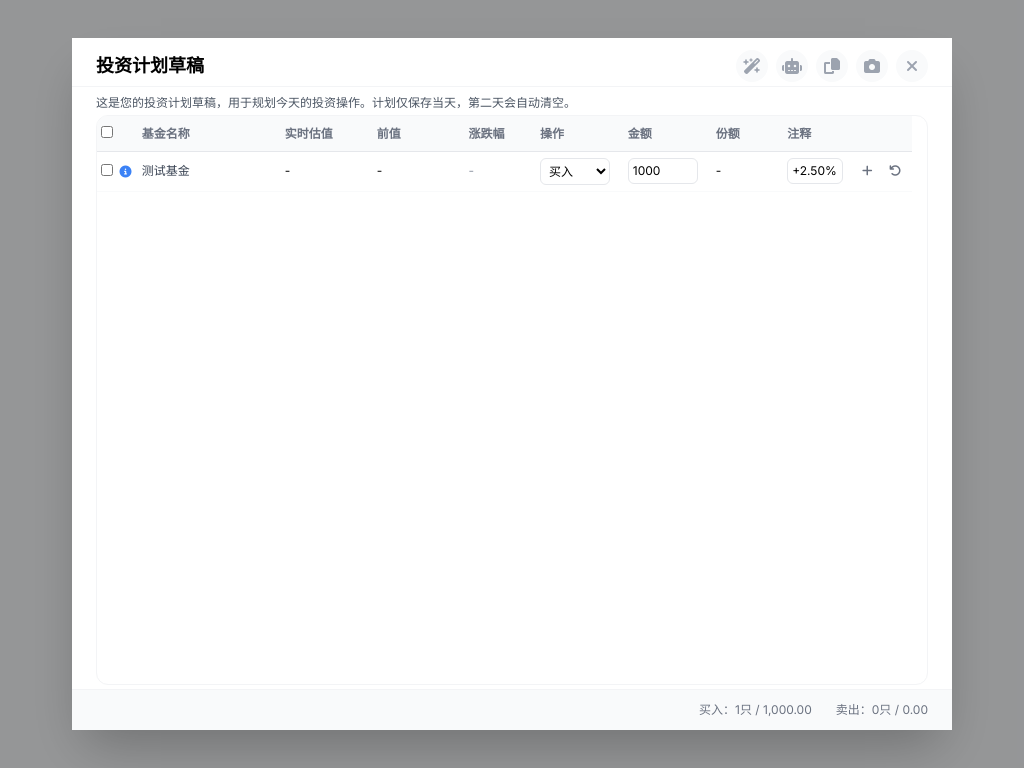
Test case: InvestmentDraftModal AI 建议持久化 › AI 建议信息保存到 localStorage
Hover over the icon with class "fa-info-circle" at point(126, 172), box [120,164,132,180]
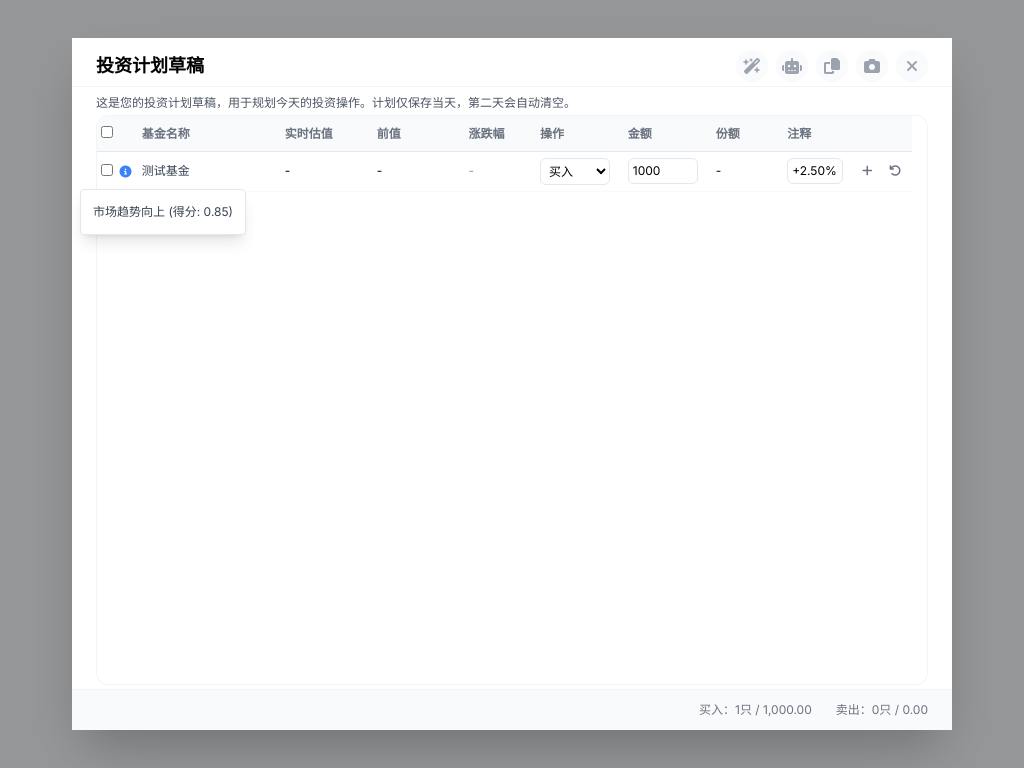
Now the text "市场趋势向上" is shown, box [93,204,165,219]
Now the text "(得分: 0.85)" is shown, box [165,204,233,219]
